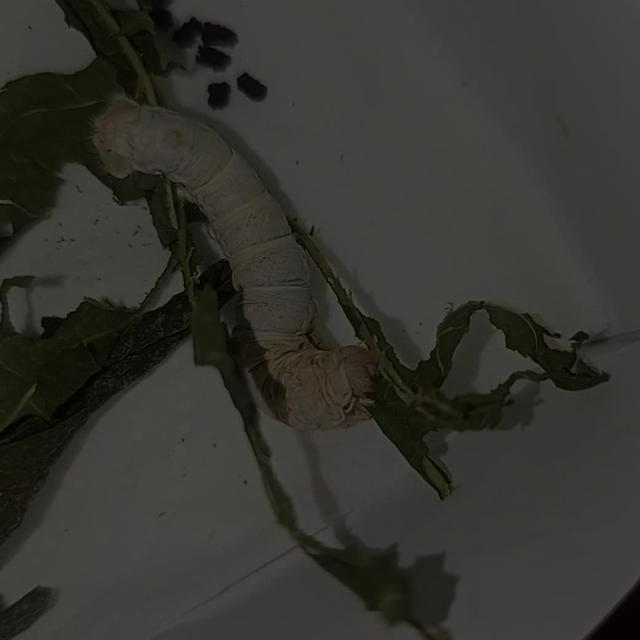Healthy: (65, 70, 393, 445)
